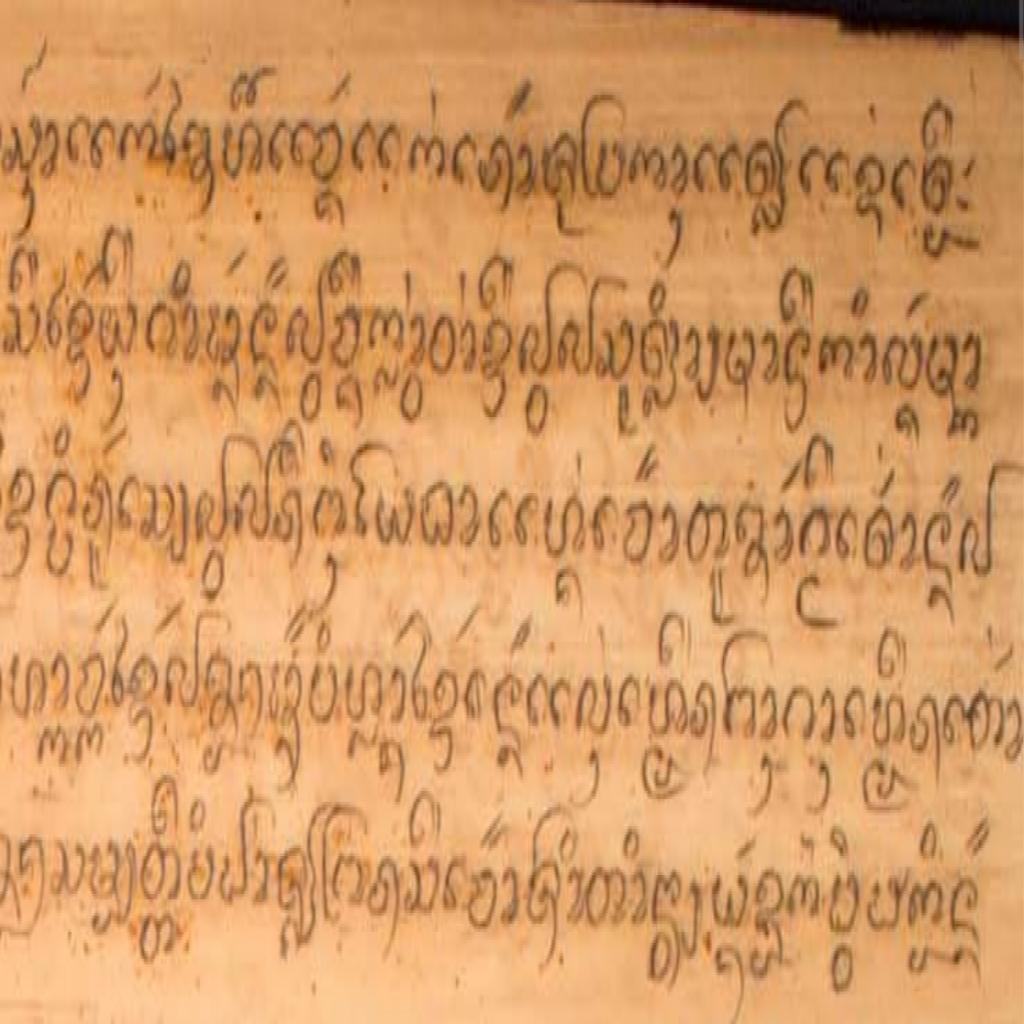LN029: (720, 627, 761, 747)
